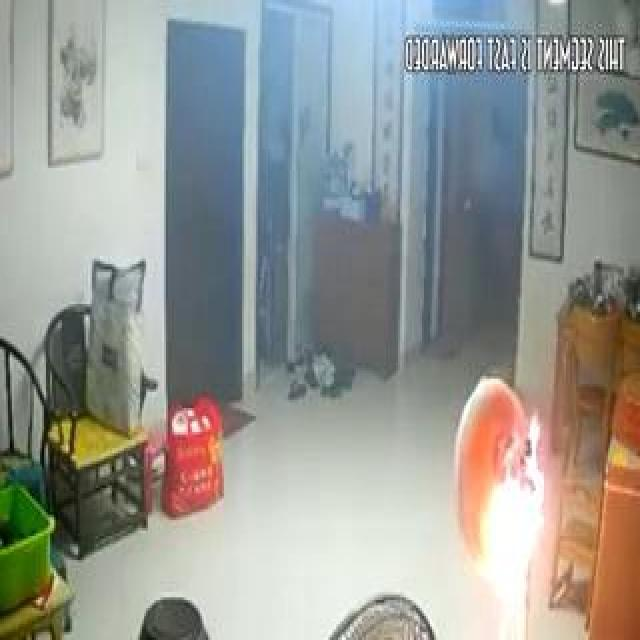Fire: (472, 411, 540, 637)
